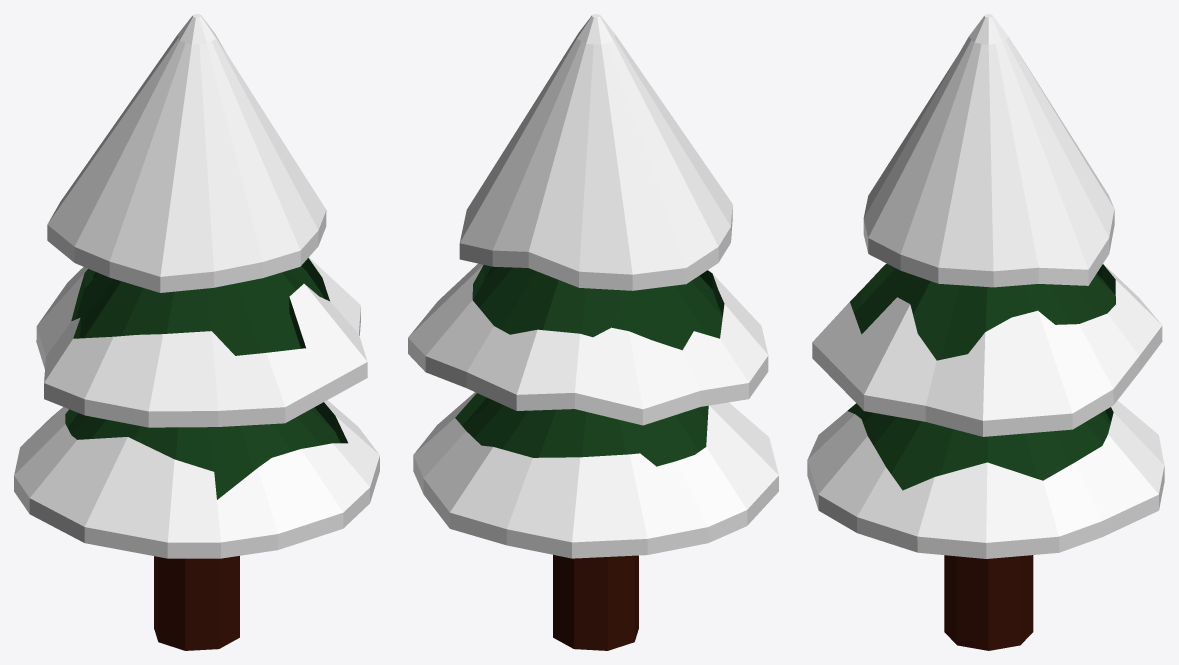
Rendered from Tree_1.fbx.
3 renders of one model, left to right at view 1: azimuth 30°, elevation 25°; view 2: azimuth 150°, elevation 25°; view 3: azimuth 270°, elevation 25°, orthographic.
Parts seen in each view (by area): view 1: Cylinder.058; view 2: Cylinder.058; view 3: Cylinder.058.
Boxes of the visible parts, <box> form: Cylinder.058: <box>14,14,379,650</box>; Cylinder.058: <box>408,14,778,650</box>; Cylinder.058: <box>807,14,1164,650</box>.
Size of the model in its own units: 203 by 373 by 196.
